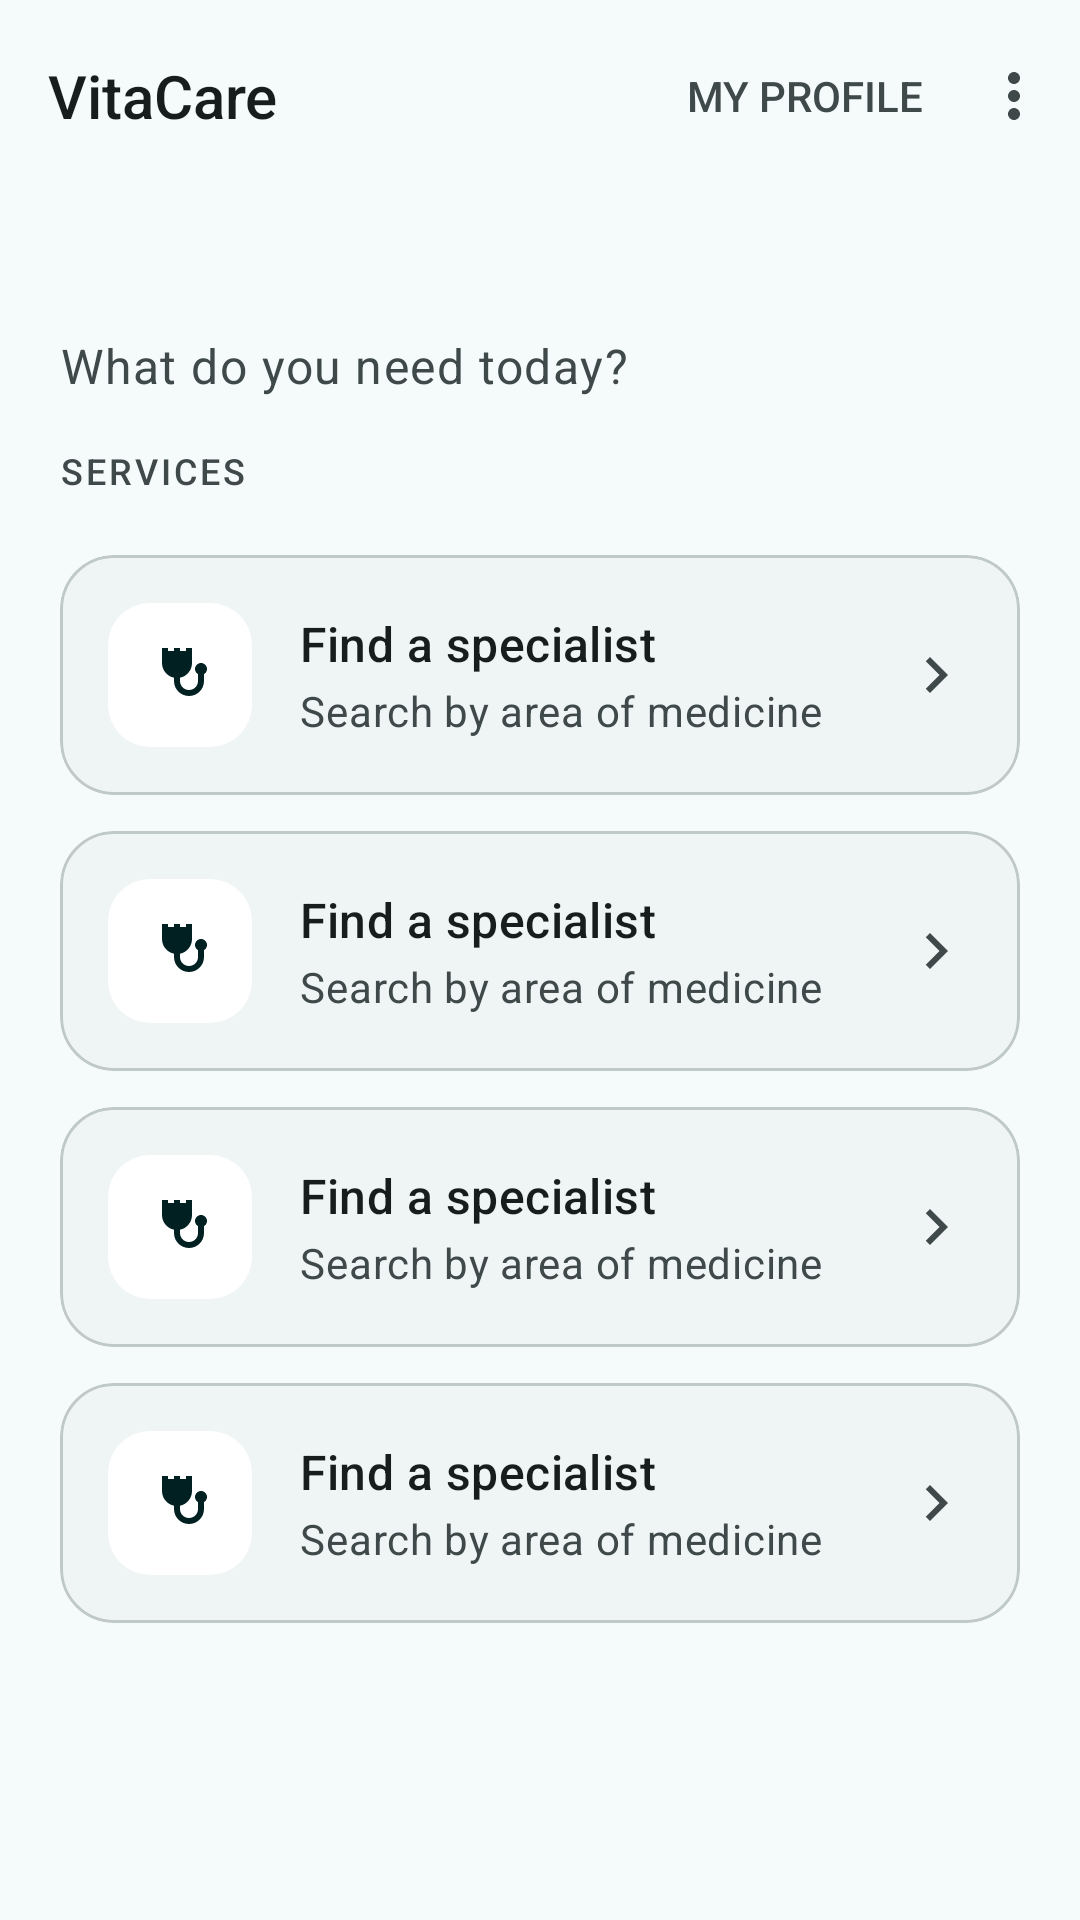

Named icons in this screenshot (1080 x 1920) and their centers, (x=x, y=y):
chevron right: (x=937, y=675), (x=937, y=951), (x=937, y=1227), (x=937, y=1503)
